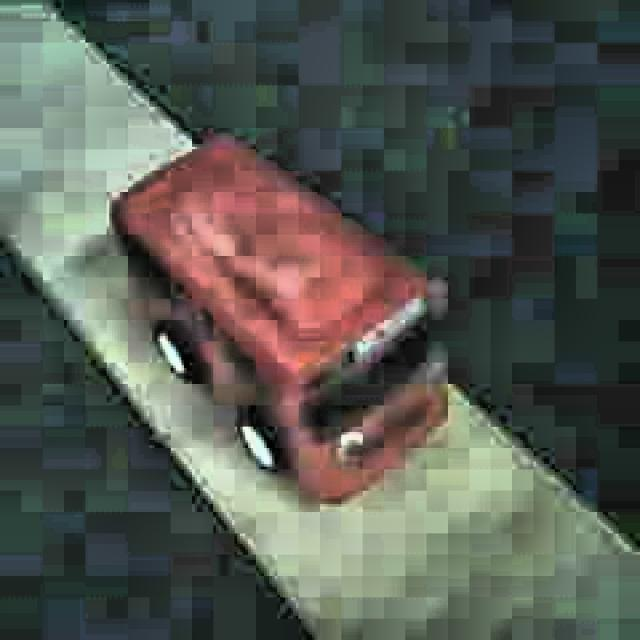bus: (105, 128, 450, 509)
